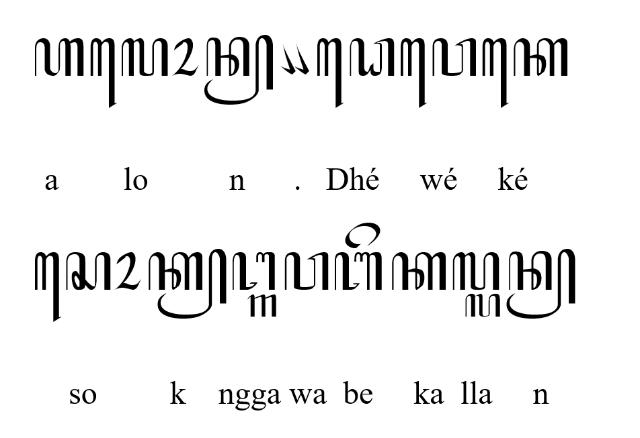-k: (148, 248, 228, 319)
-n: (203, 34, 275, 106), (506, 248, 576, 320)
b: (333, 252, 383, 292)
dh: (348, 36, 396, 78)
e: (344, 222, 382, 250)
e1: (316, 36, 344, 110), (400, 37, 428, 109), (33, 252, 61, 324), (90, 36, 116, 110), (482, 38, 508, 108)
g: (248, 294, 276, 318)
h: (34, 37, 86, 77)
k: (512, 37, 570, 77), (391, 252, 447, 292)
kom: (278, 43, 296, 75), (294, 42, 310, 74)
l: (120, 36, 170, 78), (452, 252, 500, 292), (465, 293, 501, 319)
nga: (232, 251, 276, 291)
o: (115, 252, 142, 291), (172, 38, 198, 76)
s: (65, 251, 112, 292)
w: (431, 37, 477, 79), (284, 252, 330, 291)
